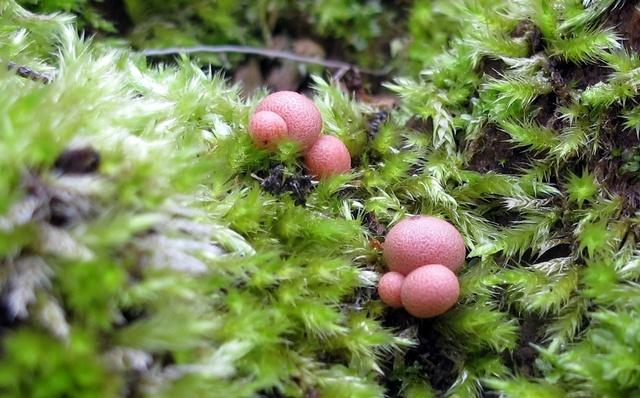poisonous_mushroom: (381, 213, 466, 275), (247, 89, 322, 157), (399, 263, 460, 318), (302, 134, 351, 181), (247, 109, 288, 150), (376, 270, 404, 307)
